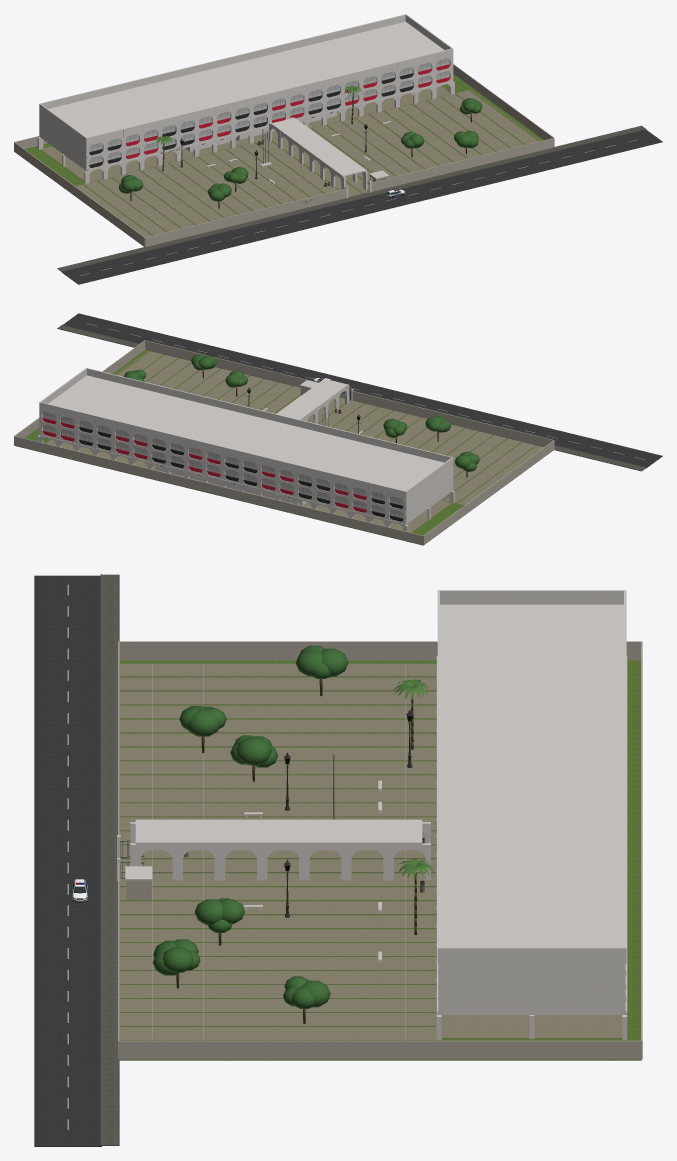
The model's file is cena.glb.
3 views of the same model, one above another, from view 1: azimuth 30°, elevation 25°; view 2: azimuth 150°, elevation 25°; view 3: azimuth 270°, elevation 25° (orthographic). The views are drawn at different scales.
Parts seen in each view (by area): view 1: 02_Patio_Estatico, 03_Predio_Fachada_Estatico, 01_Rua_Estatico, 12_Objetos_Soltos_Estatico, 07_Pilotis_Estatico, 05_Passarela_Estatico, 04_Terreo_Interior_Estatico; view 2: 03_Predio_Fachada_Estatico, 02_Patio_Estatico, 01_Rua_Estatico, 12_Objetos_Soltos_Estatico, 05_Passarela_Estatico, 07_Pilotis_Estatico, 04_Terreo_Interior_Estatico; view 3: 02_Patio_Estatico, 03_Predio_Fachada_Estatico, 01_Rua_Estatico, 05_Passarela_Estatico, 12_Objetos_Soltos_Estatico, 07_Pilotis_Estatico.
Part boxes in pixels (bbox=[...]): 02_Patio_Estatico: bbox=[14, 64, 554, 246]; 03_Predio_Fachada_Estatico: bbox=[37, 14, 454, 183]; 01_Rua_Estatico: bbox=[57, 125, 662, 284]; 12_Objetos_Soltos_Estatico: bbox=[89, 56, 482, 203]; 07_Pilotis_Estatico: bbox=[41, 86, 449, 182]; 05_Passarela_Estatico: bbox=[269, 117, 367, 190]; 04_Terreo_Interior_Estatico: bbox=[185, 111, 336, 151]; 03_Predio_Fachada_Estatico: bbox=[37, 368, 454, 531]; 02_Patio_Estatico: bbox=[14, 340, 554, 545]; 01_Rua_Estatico: bbox=[57, 313, 662, 471]; 12_Objetos_Soltos_Estatico: bbox=[43, 354, 479, 518]; 05_Passarela_Estatico: bbox=[276, 378, 349, 423]; 07_Pilotis_Estatico: bbox=[46, 439, 451, 532]; 04_Terreo_Interior_Estatico: bbox=[155, 465, 306, 505]; 02_Patio_Estatico: bbox=[117, 641, 642, 1060]; 03_Predio_Fachada_Estatico: bbox=[436, 590, 627, 1039]; 01_Rua_Estatico: bbox=[34, 574, 119, 1146]; 05_Passarela_Estatico: bbox=[130, 819, 430, 880]; 12_Objetos_Soltos_Estatico: bbox=[120, 645, 434, 1040]; 07_Pilotis_Estatico: bbox=[441, 1015, 622, 1038].
Bounding box in the file's own units: 160 × 12.1 × 72.1.
Materials: 73 (43 with a texture image).
